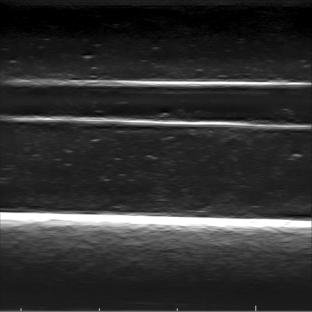vessel: (7, 78, 309, 128)
